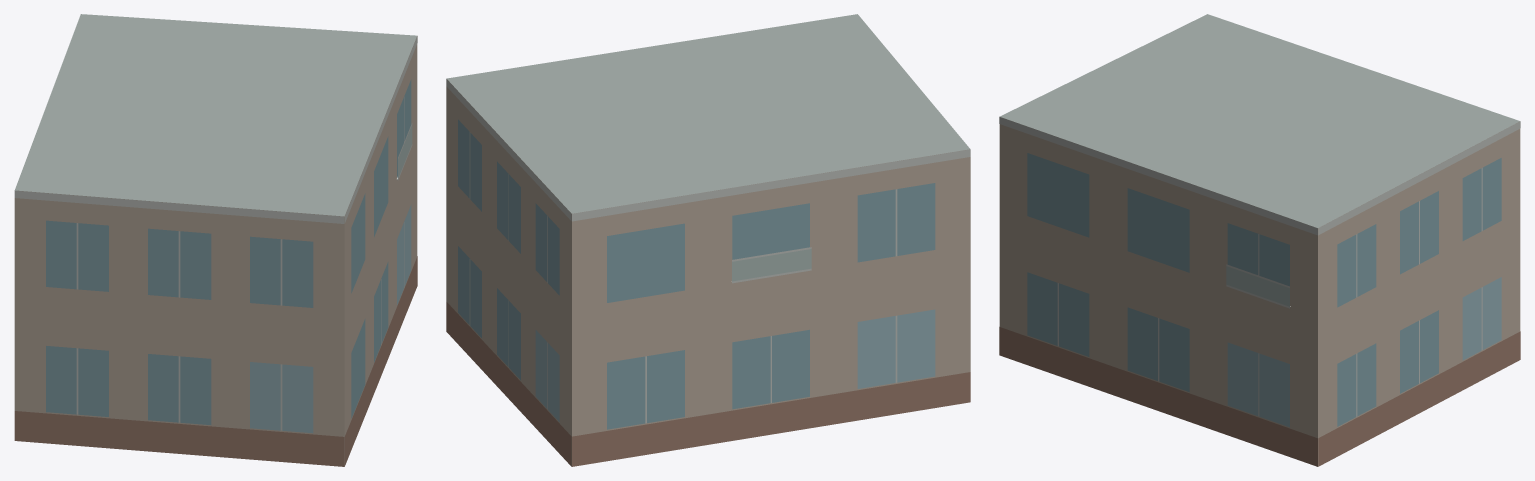
The model's file is survey-upis-32517851.glb.
The picture shows the model from 3 angles, left to right: view 1: azimuth 30°, elevation 25°; view 2: azimuth 150°, elevation 25°; view 3: azimuth 270°, elevation 25°; orthographic projection. The views are drawn at different scales.
Parts seen in each view (by area): view 1: survey-upis-32517851.tmp; view 2: survey-upis-32517851.tmp; view 3: survey-upis-32517851.tmp.
Boxes of the visible parts, bbox=[...] form: survey-upis-32517851.tmp: bbox=[14, 14, 417, 466]; survey-upis-32517851.tmp: bbox=[446, 14, 970, 466]; survey-upis-32517851.tmp: bbox=[999, 14, 1520, 466].
Size of the model in its own units: 15.41 by 8 by 15.84.
